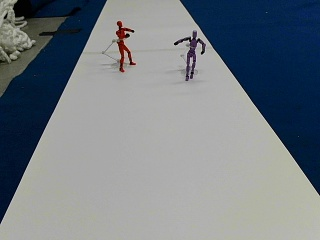pedestrian: (174, 30, 205, 79), (115, 19, 135, 71)
